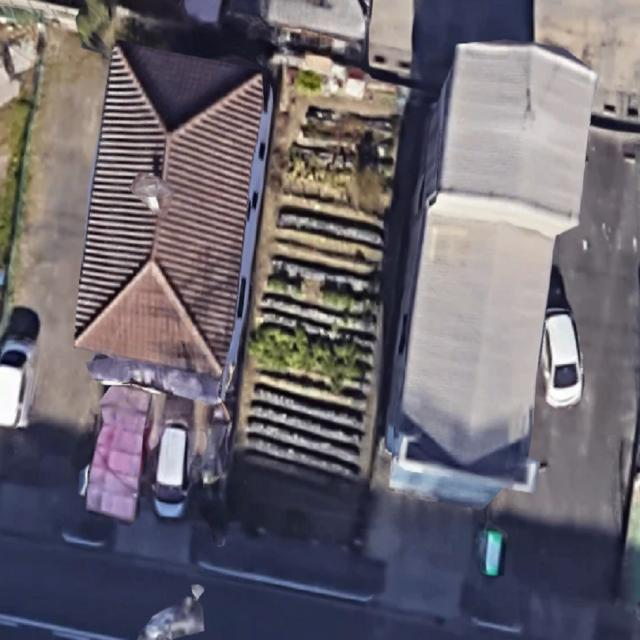Batiment: (391, 43, 596, 504), (75, 43, 264, 378)
